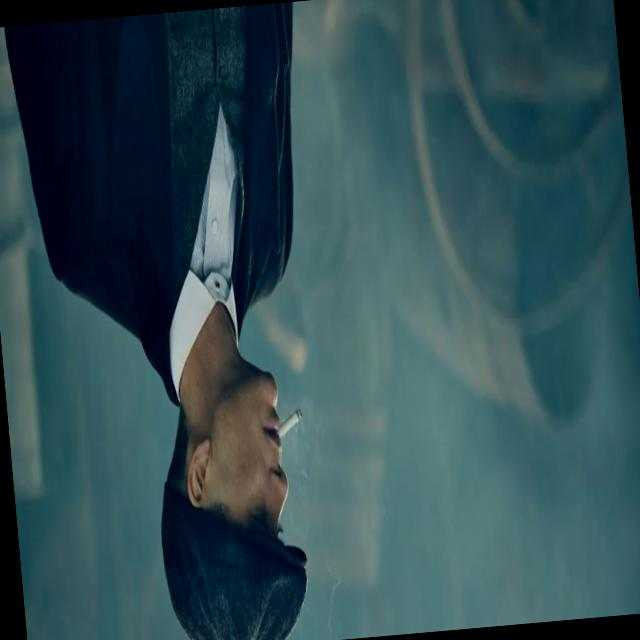cigarette: (272, 389, 310, 440)
